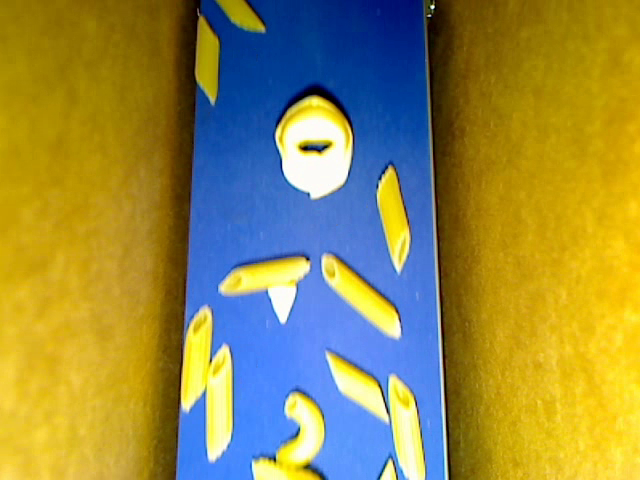elbow: (276, 390, 324, 468)
penne: (320, 251, 401, 339), (324, 350, 390, 423), (388, 371, 425, 479), (376, 163, 410, 271), (217, 257, 310, 296), (204, 342, 233, 464), (180, 304, 213, 411), (195, 14, 218, 104), (214, 1, 265, 33), (379, 455, 397, 479)
tortellini: (273, 95, 353, 200)
